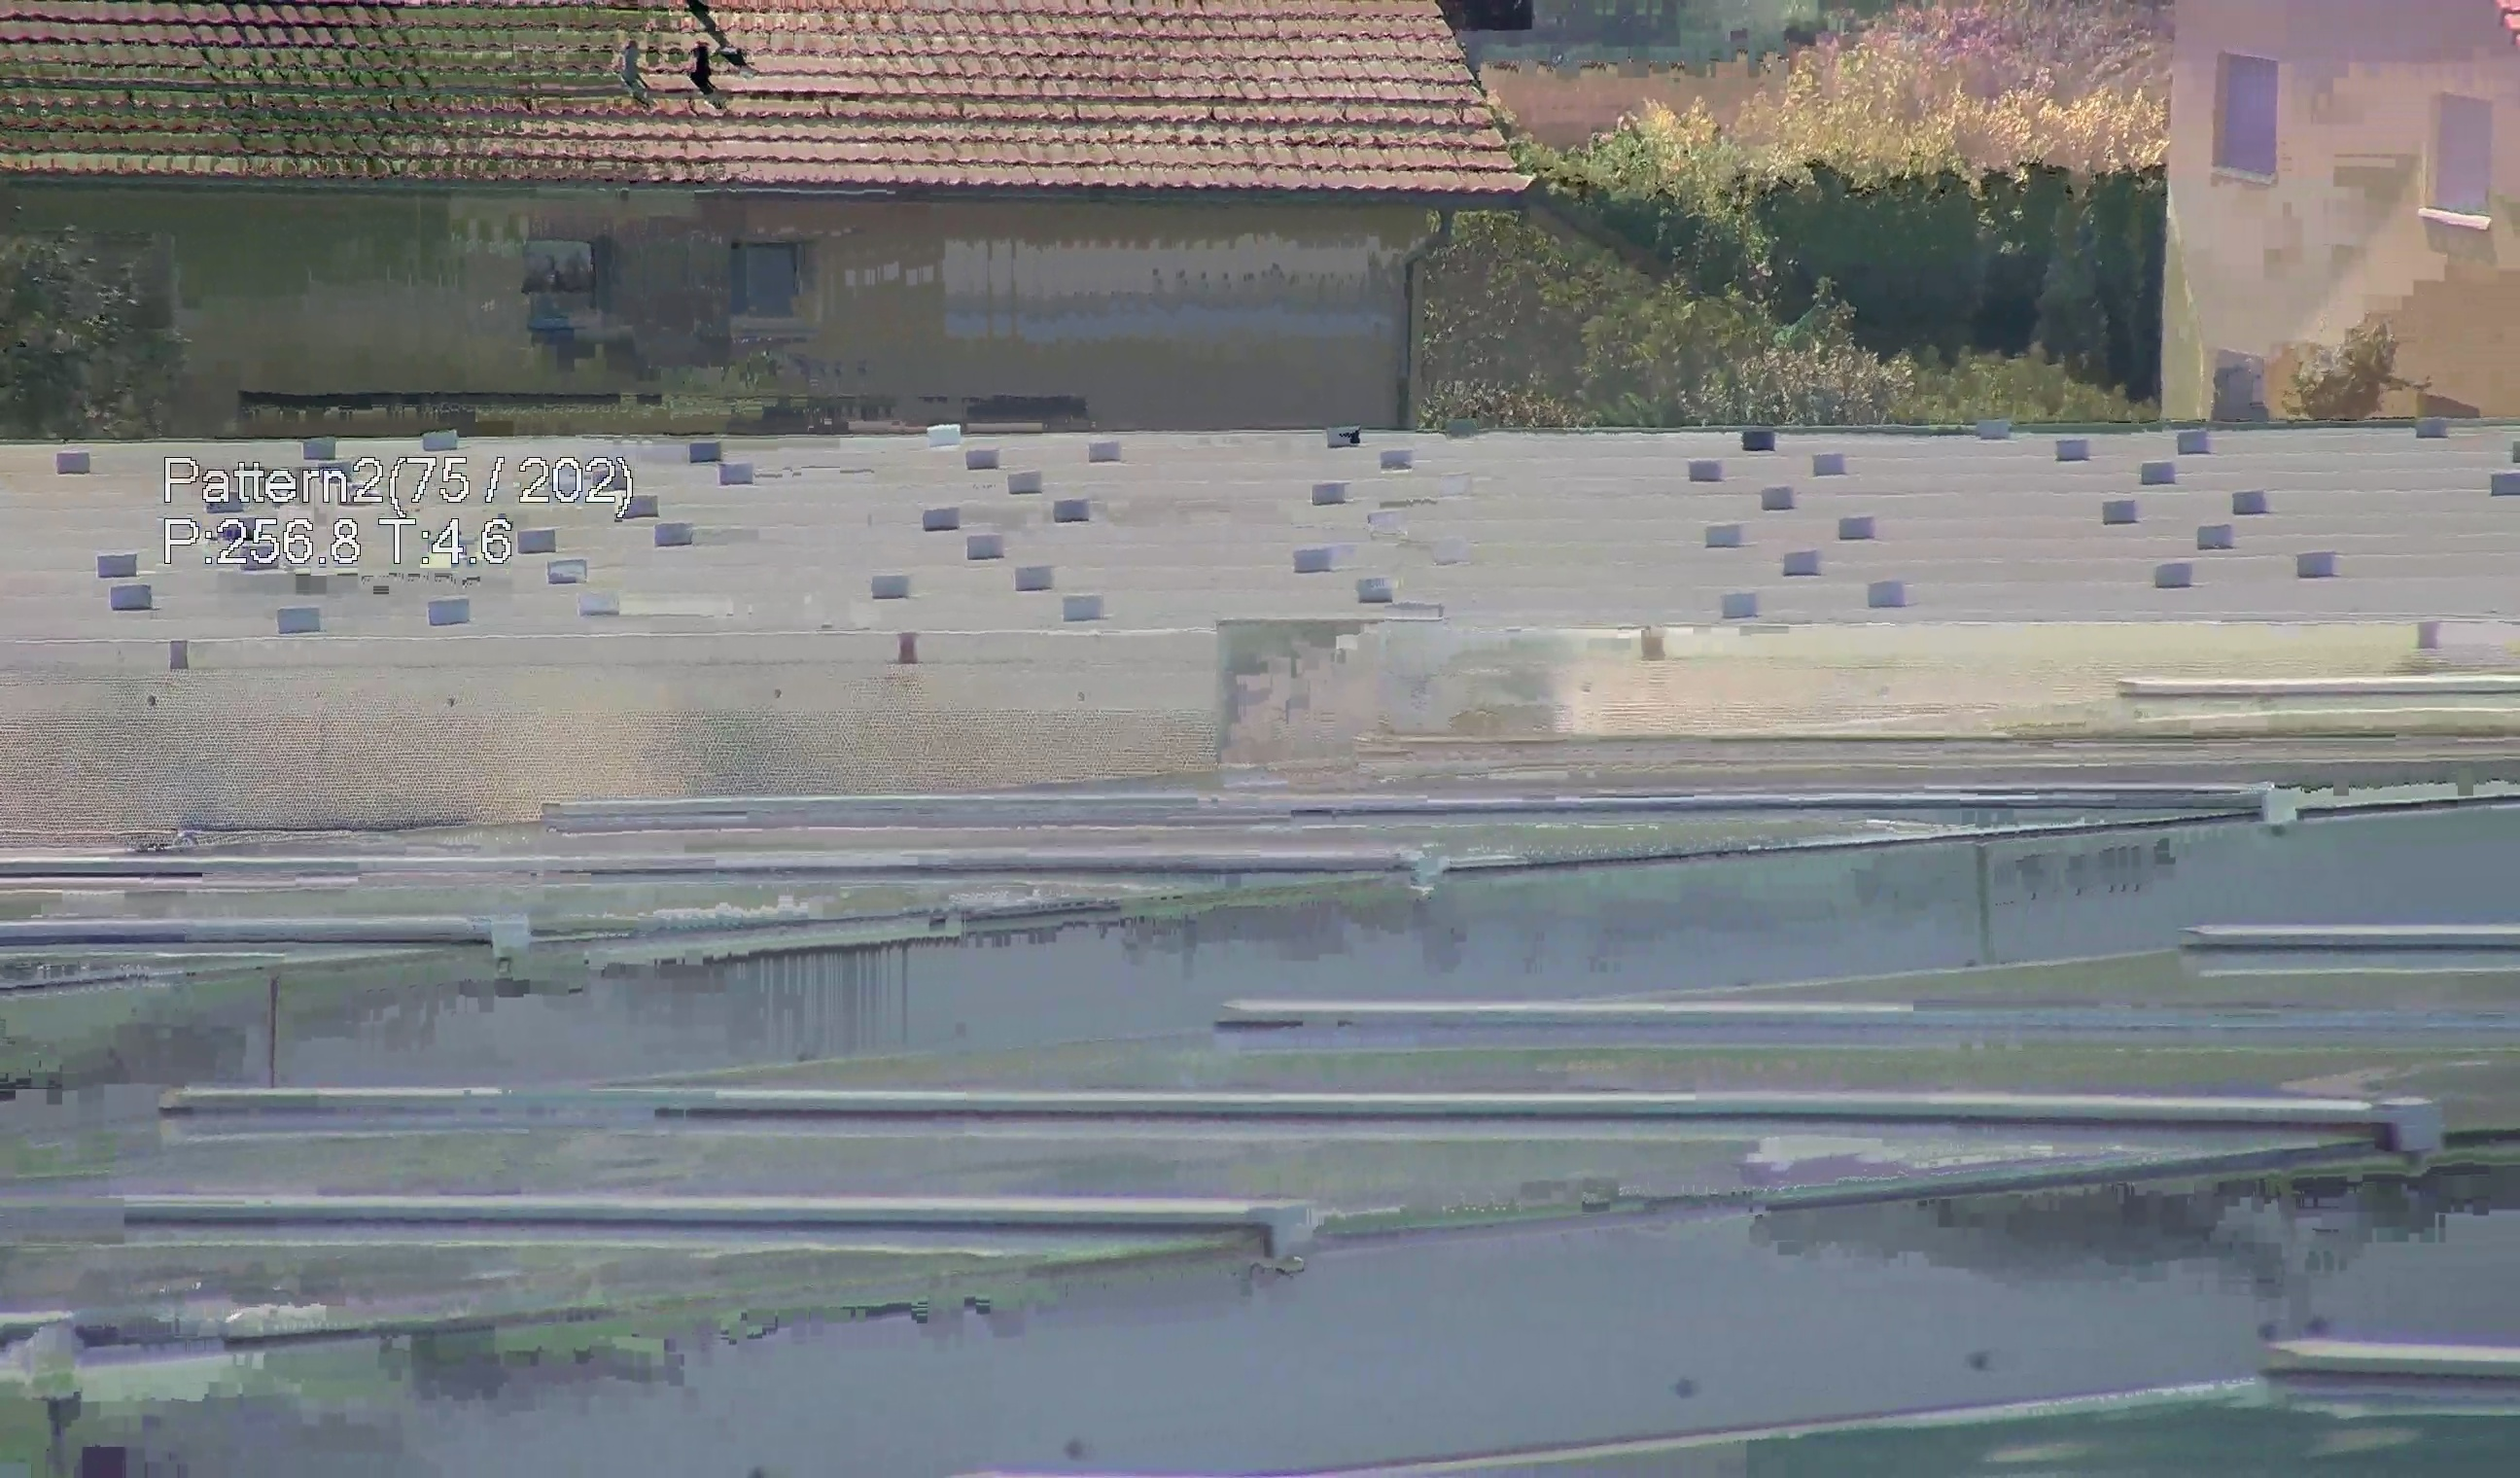Other: (670, 9, 742, 107)
